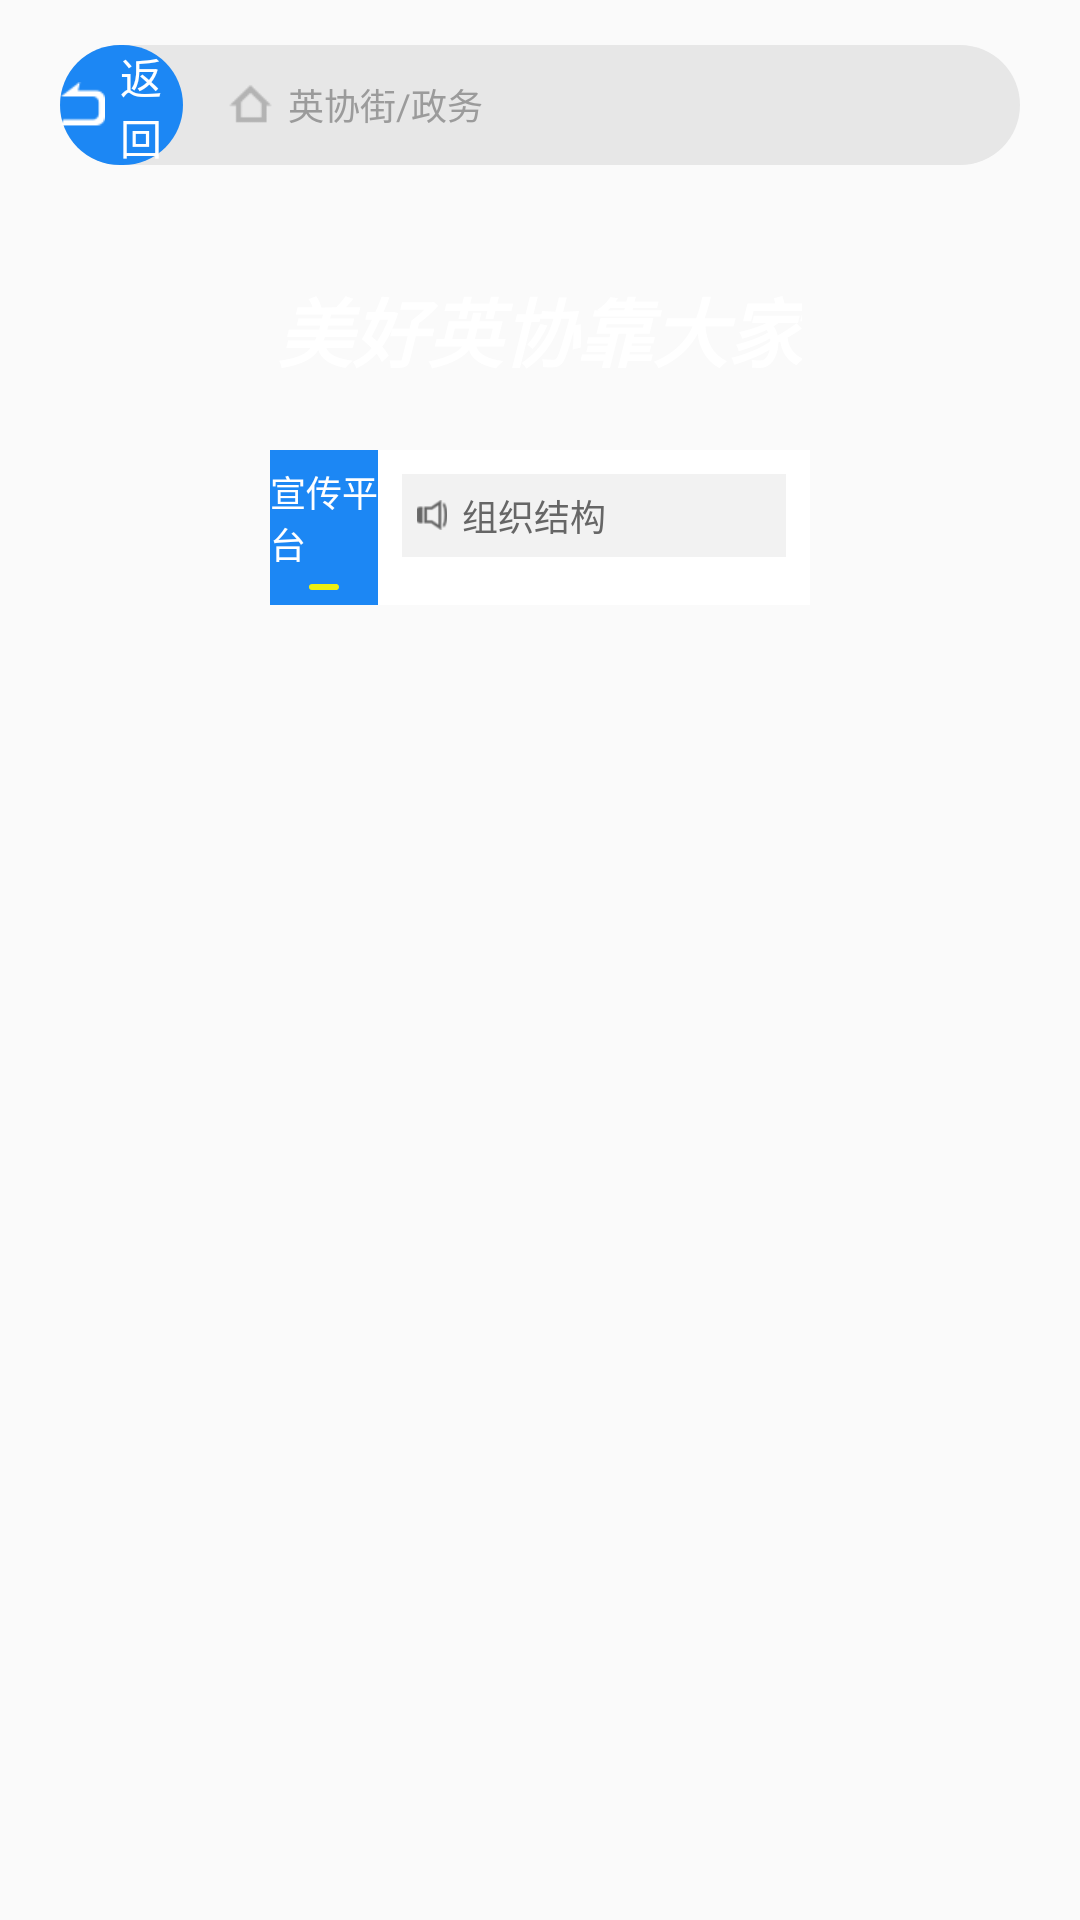

Point at icon controls on the screen. Image size 1080x1920, points as (x,y).
crumb home: (250,104)
